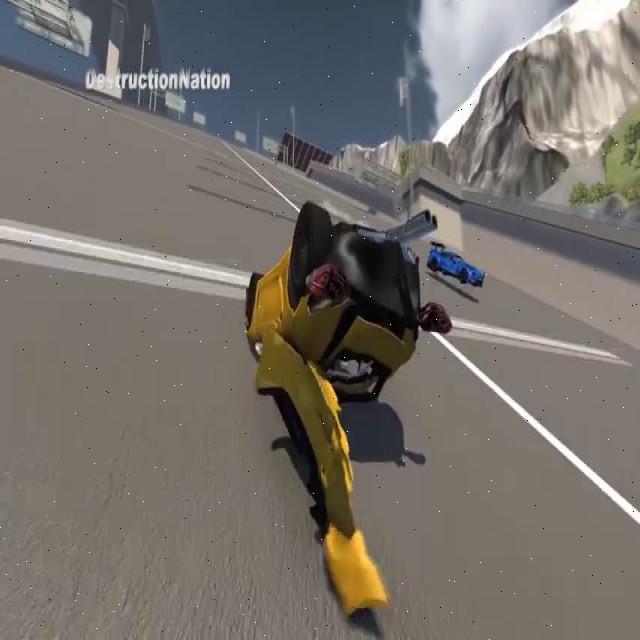severe: (242, 208, 450, 615)
